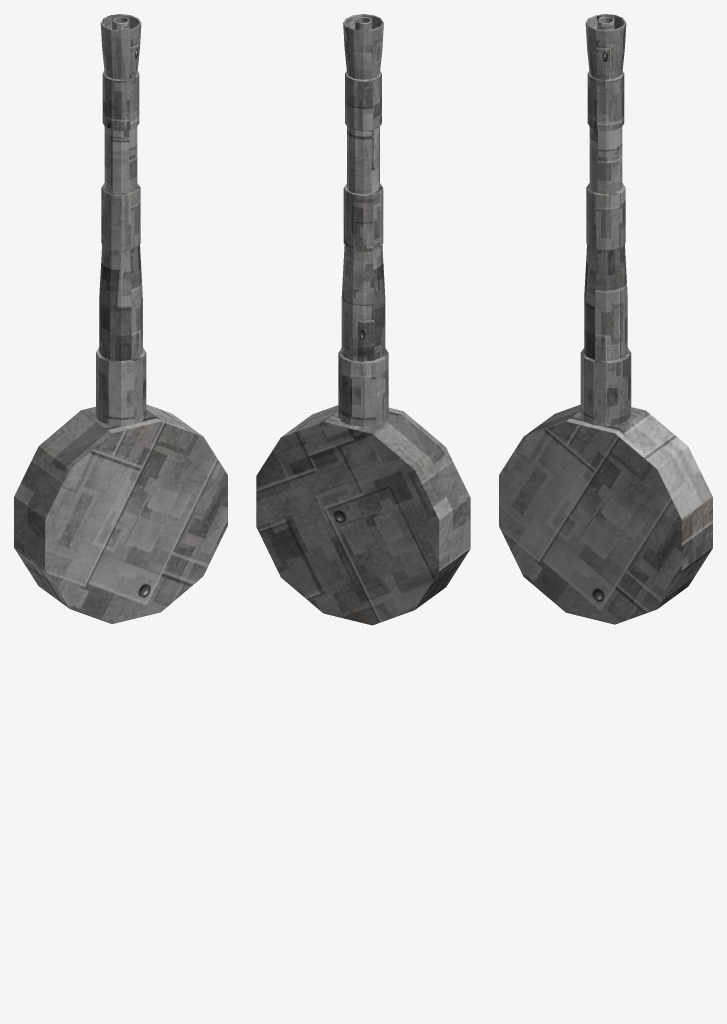
File: rocket-tower-cannon-cannon.fbx
3 views of the same model, side by side, from view 1: azimuth 30°, elevation 25°; view 2: azimuth 150°, elevation 25°; view 3: azimuth 330°, elevation 25° (orthographic).
Visible parts, largest first — view 1: rocket-tower-cannon-cannon.001; view 2: rocket-tower-cannon-cannon.001; view 3: rocket-tower-cannon-cannon.001.
Part boxes in pixels (left/top/right/bottom): rocket-tower-cannon-cannon.001: left=14, top=14, right=227, bottom=623; rocket-tower-cannon-cannon.001: left=256, top=14, right=470, bottom=625; rocket-tower-cannon-cannon.001: left=499, top=14, right=712, bottom=624.
Bounding box in the file's own units: 90.77 × 469 × 26.75.
3 materials, 3 textured.
